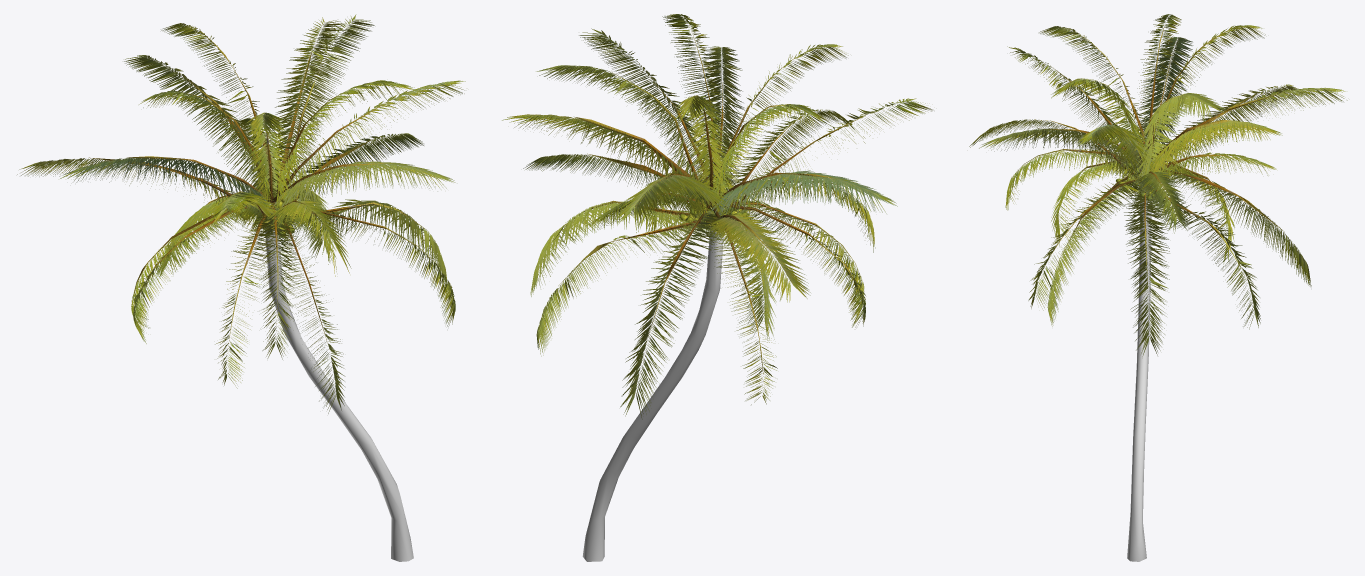
File: SM_PalmTree_A.fbx
3 renders of one model, left to right at view 1: azimuth 30°, elevation 25°; view 2: azimuth 150°, elevation 25°; view 3: azimuth 270°, elevation 25°, orthographic. The views are drawn at different scales.
Parts seen in each view (by area): view 1: SM_PalmTree_A; view 2: SM_PalmTree_A; view 3: SM_PalmTree_A.
Boxes of the visible parts, x1=… form: SM_PalmTree_A: x1=17, y1=14, x2=465, y2=561; SM_PalmTree_A: x1=502, y1=14, x2=932, y2=561; SM_PalmTree_A: x1=969, y1=14, x2=1347, y2=561.
Size of what is drawn, in the model's own units: 8.03 by 11 by 8.22.
